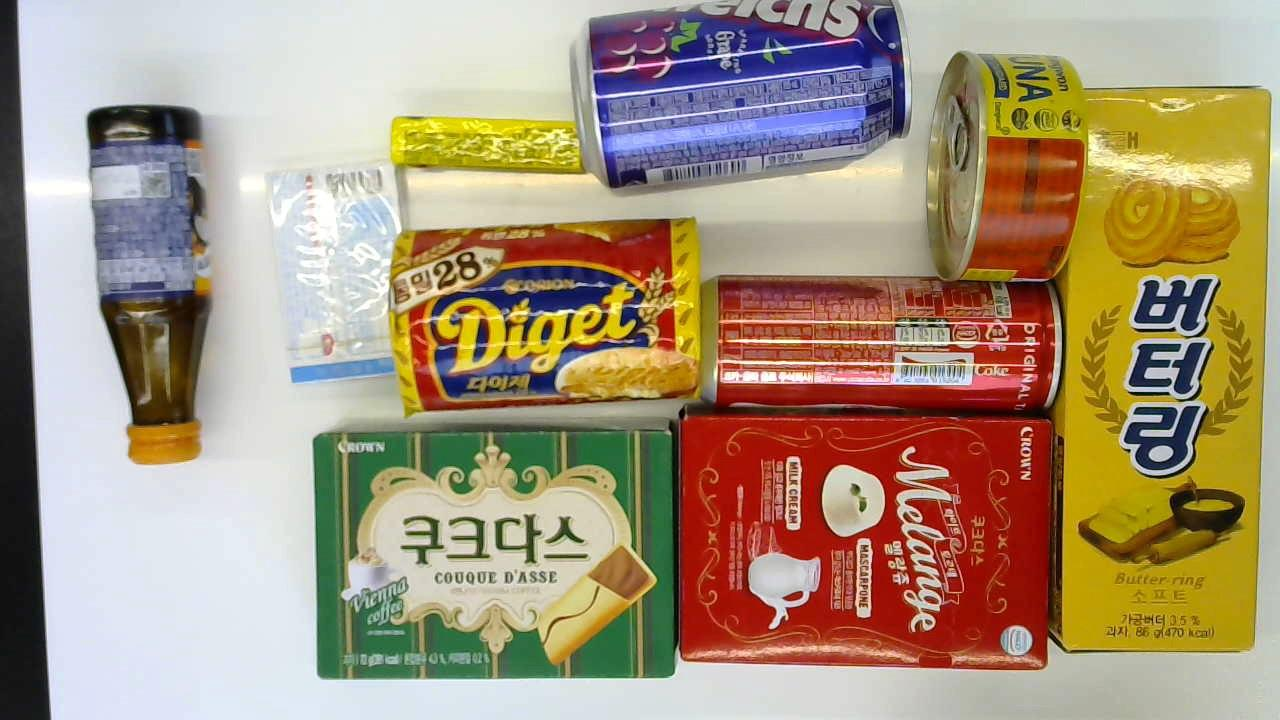ID_gum: (258, 148, 427, 393)
buttering: (1040, 74, 1270, 655)
coke: (692, 273, 1069, 414)
couque_coffee: (310, 414, 677, 681)
couque_white: (669, 389, 1056, 677)
diget_ori: (383, 215, 703, 421)
juicyfresh: (386, 106, 588, 178)
tuna: (920, 43, 1086, 287)
vita500: (75, 98, 229, 468)
welchs: (575, 2, 921, 196)
